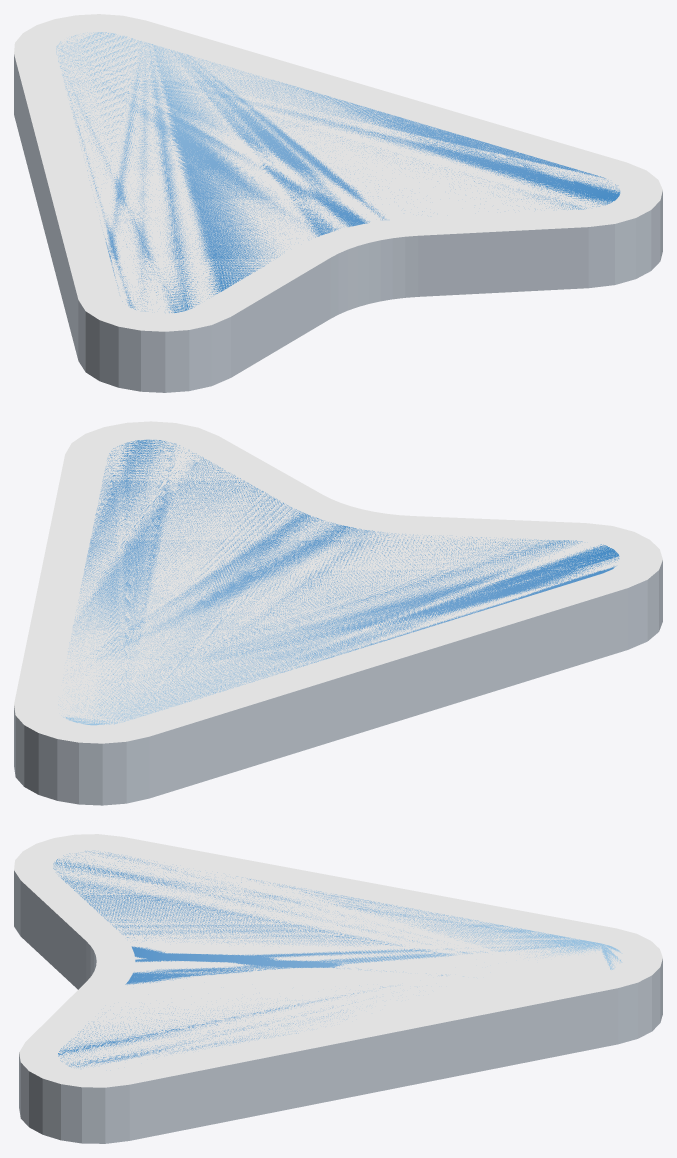
File: navigation_puck.glb
3 renders of one model, top to bottom at view 1: azimuth 30°, elevation 25°; view 2: azimuth 150°, elevation 25°; view 3: azimuth 270°, elevation 25°, orthographic. The views are drawn at different scales.
Visible parts, largest first — view 1: NavigationPuck; view 2: NavigationPuck; view 3: NavigationPuck.
Part boxes in pixels (x1,y1,x2,y2): NavigationPuck: (14,14,662,392); NavigationPuck: (14,421,662,805); NavigationPuck: (14,834,662,1143).
Size of the model in its own units: 0.7253 by 0.075 by 0.7844.
